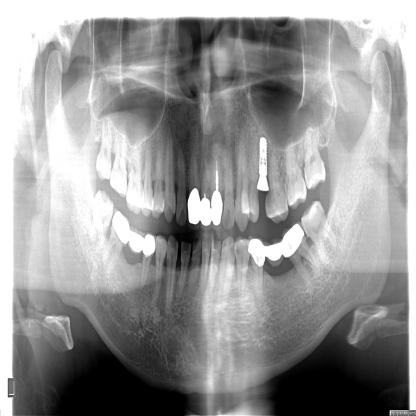ITI: (254, 134, 270, 192)
